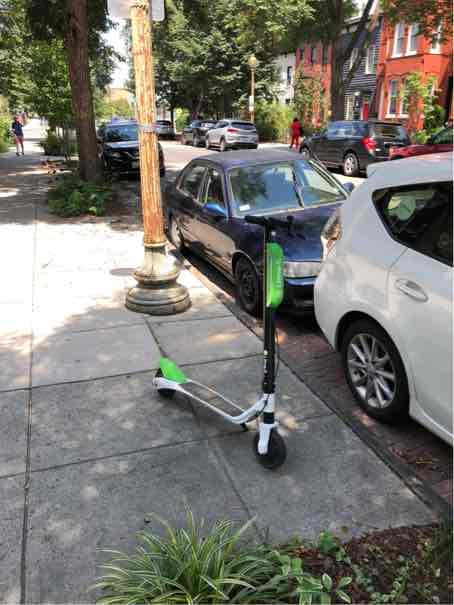scooter: (145, 203, 322, 478)
